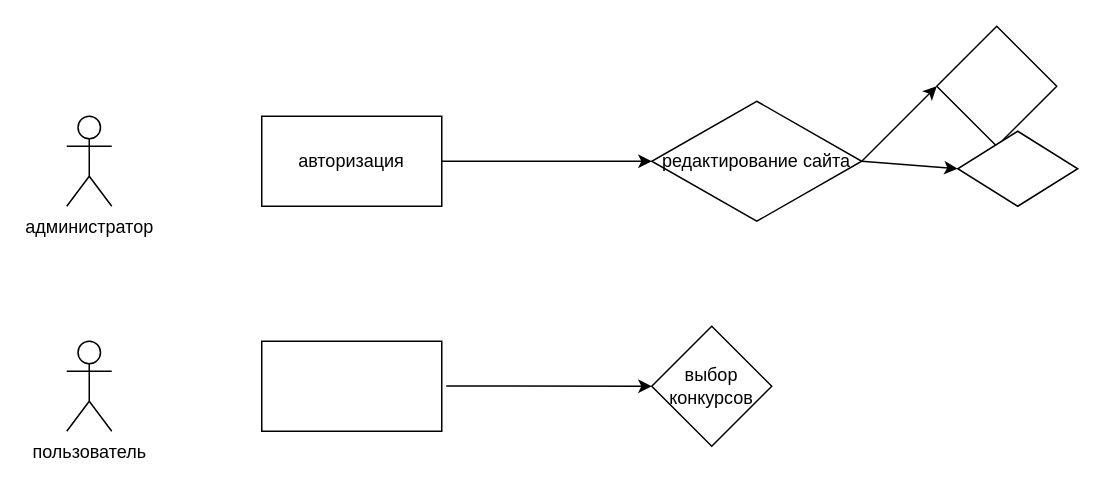
The diagram is 1104 pixels wide and 489 high, and some of its shapes have lost their labels. The shapes that lost their labels are listed below. From the top down, each one's centre as x and y in pixels, then its label:
point 996,85: добавление
point 351,385: регистрация
